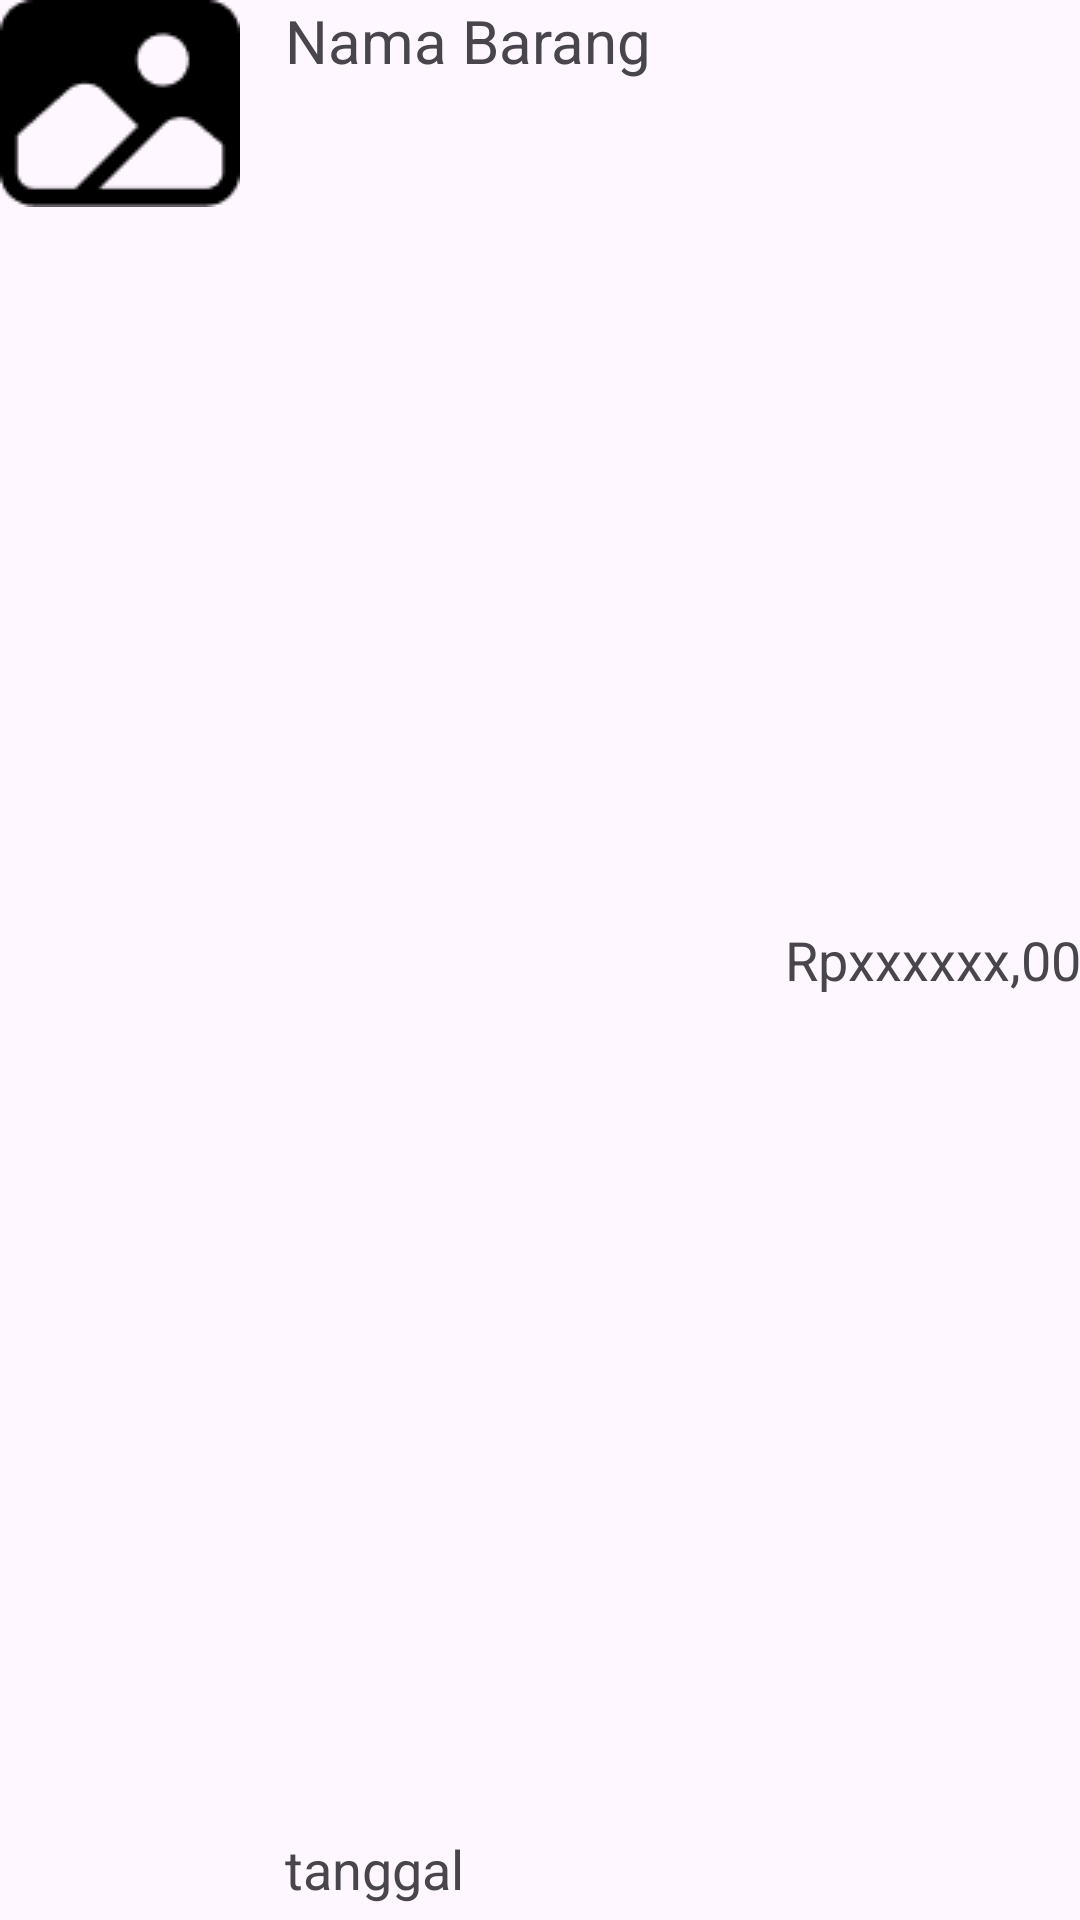

Locate icon controls on the screen. Image size 1080x1920, boxes as (x1, y1, x2, y2).
foto: (0, 0, 240, 207)
